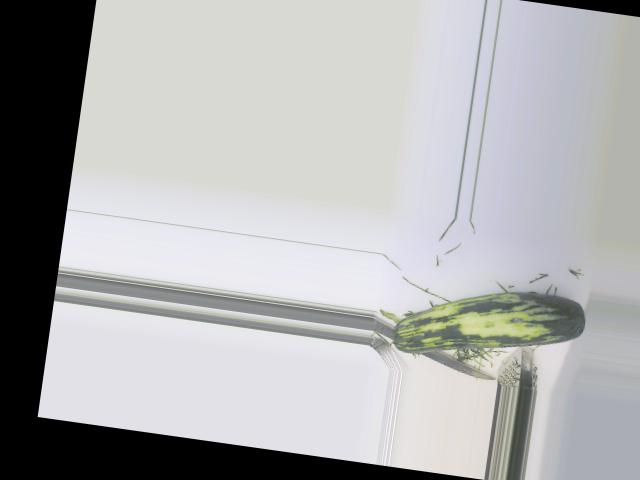cucumber: (389, 273, 588, 377)
